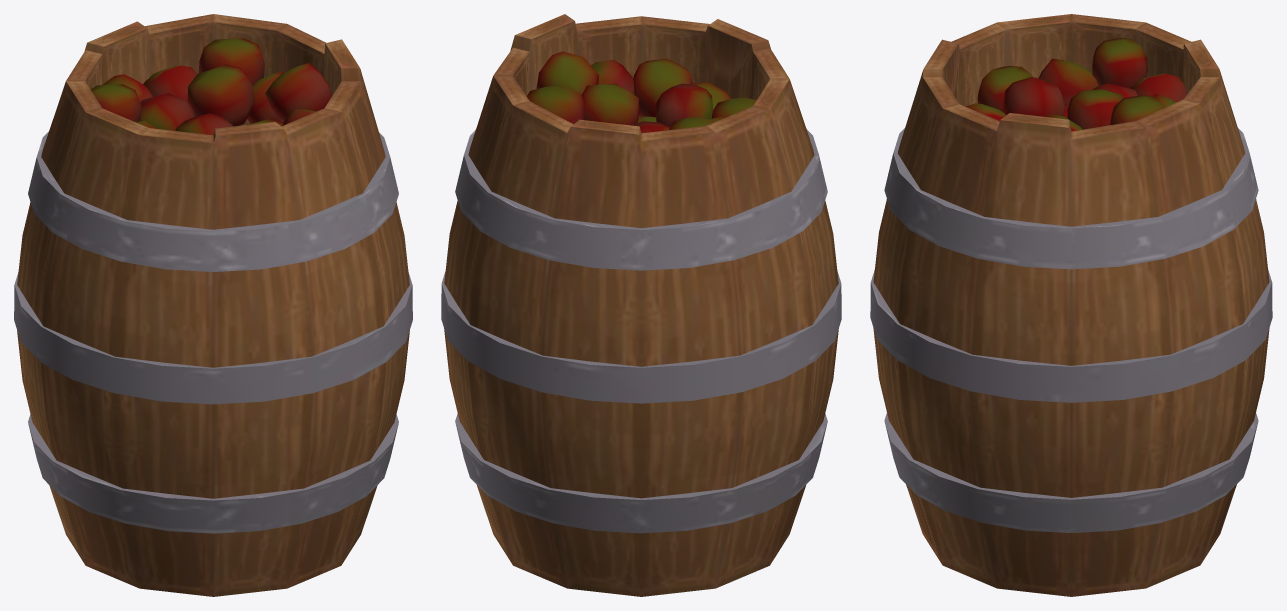
File: Barrel_Apples.gltf
3 renders of one model, left to right at view 1: azimuth 30°, elevation 25°; view 2: azimuth 150°, elevation 25°; view 3: azimuth 270°, elevation 25°, orthographic.
Visible parts, largest first — view 1: Barrel_Apples; view 2: Barrel_Apples; view 3: Barrel_Apples.
Part boxes in pixels (bbox=[...]): Barrel_Apples: bbox=[14, 14, 412, 596]; Barrel_Apples: bbox=[441, 14, 841, 596]; Barrel_Apples: bbox=[870, 14, 1272, 596].
Size of the model in its own units: 0.698 by 0.898 by 0.698.
3 materials, 3 textured.
